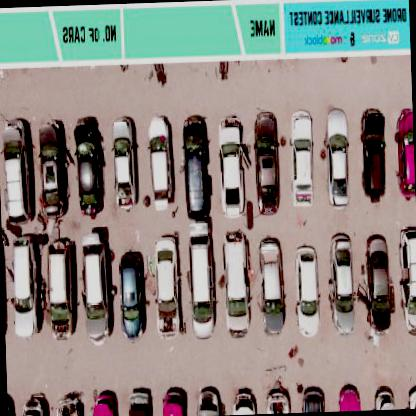car: (38, 120, 73, 220), (78, 230, 108, 346), (186, 222, 214, 340), (73, 117, 106, 216), (220, 230, 250, 338), (251, 110, 280, 216), (7, 234, 36, 338), (152, 232, 180, 338), (214, 115, 242, 220), (44, 235, 72, 340), (364, 232, 392, 336), (257, 234, 285, 332), (325, 233, 352, 334), (182, 117, 208, 217), (322, 111, 349, 207), (360, 108, 388, 200), (1, 122, 26, 223), (112, 118, 138, 212), (118, 249, 144, 343), (289, 113, 314, 208), (396, 222, 415, 339), (146, 116, 170, 208), (294, 246, 318, 336), (393, 110, 415, 200), (195, 386, 223, 416), (123, 387, 153, 415), (159, 388, 185, 415), (298, 388, 326, 412), (337, 384, 362, 410), (91, 393, 118, 415), (264, 390, 289, 413)
